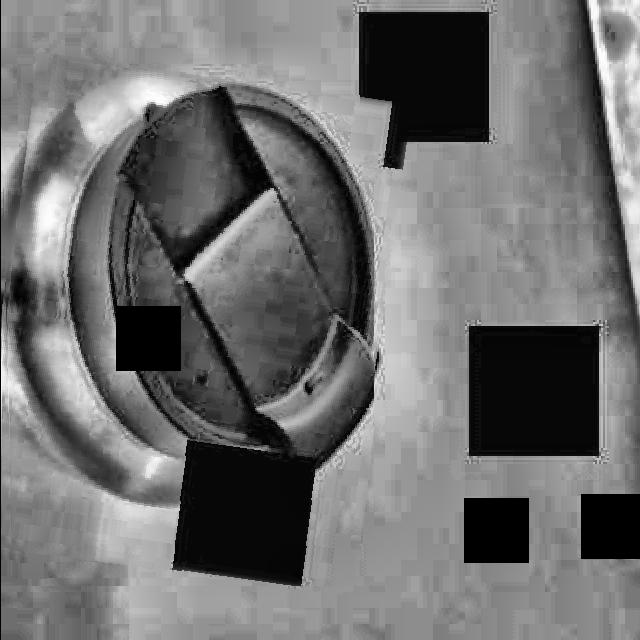bottle: (4, 74, 373, 586)
